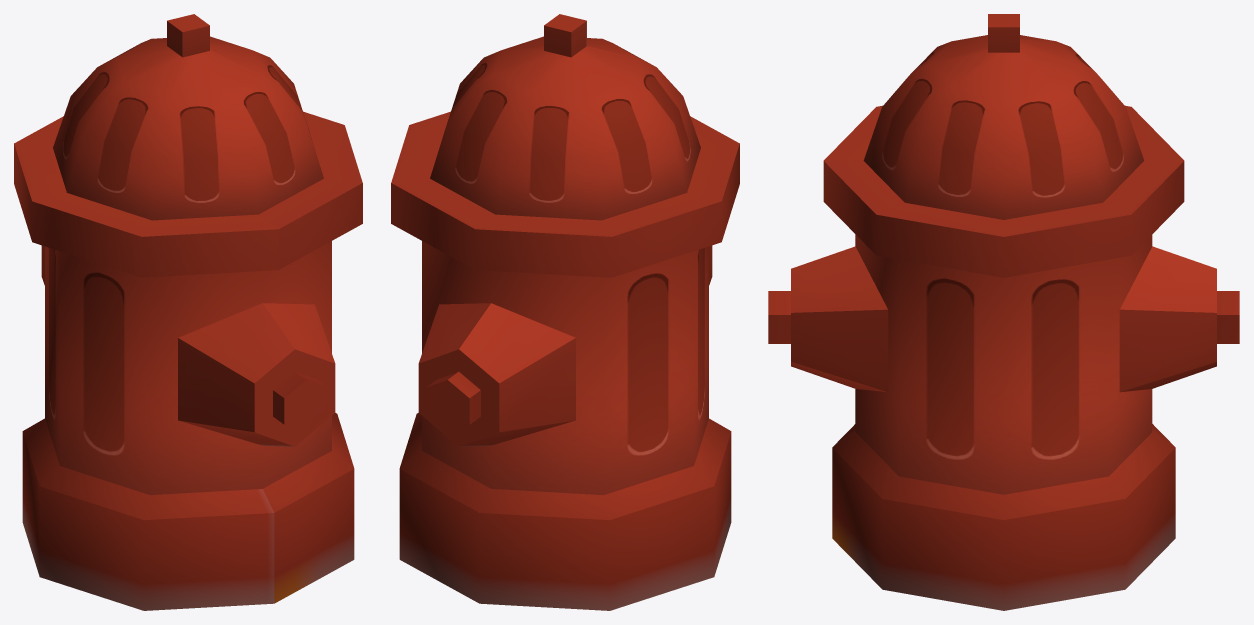
File: Fireplug.fbx
3 renders of one model, left to right at view 1: azimuth 30°, elevation 25°; view 2: azimuth 150°, elevation 25°; view 3: azimuth 270°, elevation 25°, orthographic.
Parts seen in each view (by area): view 1: Cube.023; view 2: Cube.023; view 3: Cube.023.
Part boxes in pixels (x1,y1,x2,y2): Cube.023: (14,14,362,610); Cube.023: (391,14,739,610); Cube.023: (768,14,1239,610).
Size of the model in its own units: 43.16 by 68.3 by 56.35.
